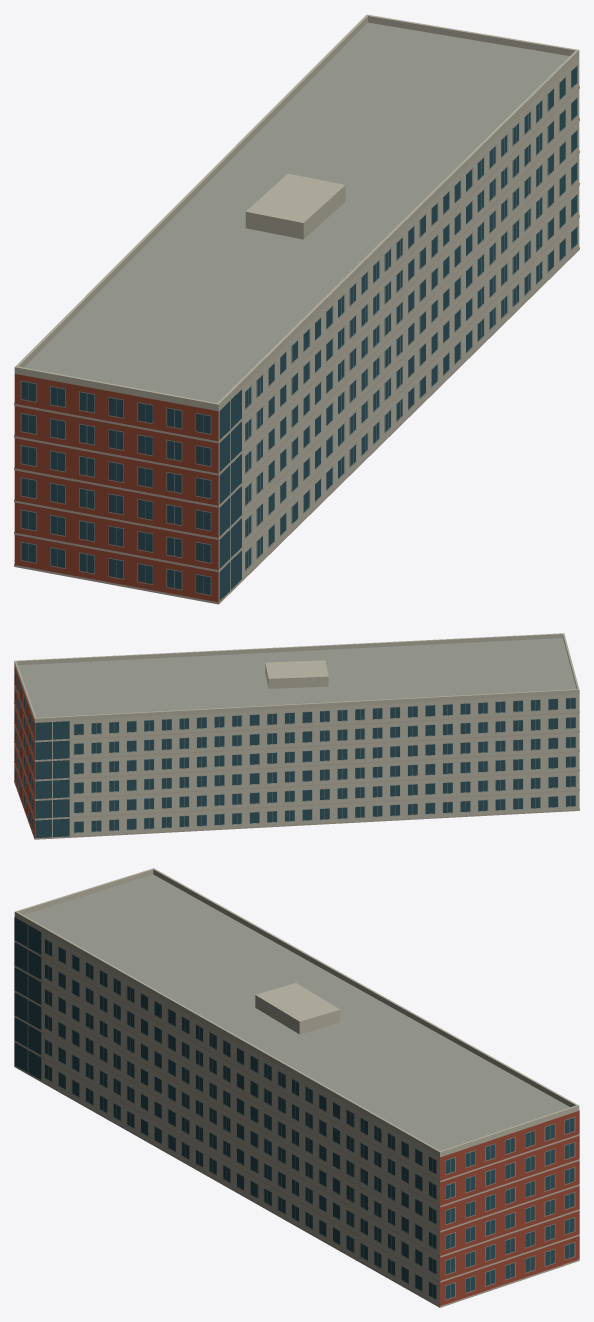
The picture shows the model from 3 angles, top to bottom: view 1: azimuth 30°, elevation 25°; view 2: azimuth 150°, elevation 25°; view 3: azimuth 270°, elevation 25°; orthographic projection. The views are drawn at different scales.
Visible parts, largest first — view 1: B17_teaching, V05_B17_facade, B17_teaching_parapet, B17_teaching_plant; view 2: B17_teaching, V05_B17_facade, B17_teaching_parapet, B17_teaching_plant; view 3: B17_teaching, V05_B17_facade, B17_teaching_parapet, B17_teaching_plant.
Boxes of the visible parts, x1=… form: B17_teaching: x1=14, y1=22, x2=579, y2=604; V05_B17_facade: x1=14, y1=64, x2=579, y2=604; B17_teaching_parapet: x1=14, y1=14, x2=579, y2=411; B17_teaching_plant: x1=245, y1=173, x2=345, y2=239; B17_teaching: x1=14, y1=638, x2=579, y2=838; V05_B17_facade: x1=14, y1=670, x2=579, y2=839; B17_teaching_parapet: x1=14, y1=633, x2=579, y2=722; B17_teaching_plant: x1=265, y1=660, x2=328, y2=688; B17_teaching: x1=15, y1=874, x2=579, y2=1307; V05_B17_facade: x1=14, y1=917, x2=579, y2=1307; B17_teaching_parapet: x1=14, y1=868, x2=579, y2=1157; B17_teaching_plant: x1=255, y1=983, x2=340, y2=1034.
Size of the model in its own units: 94.99 by 25.4 by 79.84.
7 materials, 1 textured.
